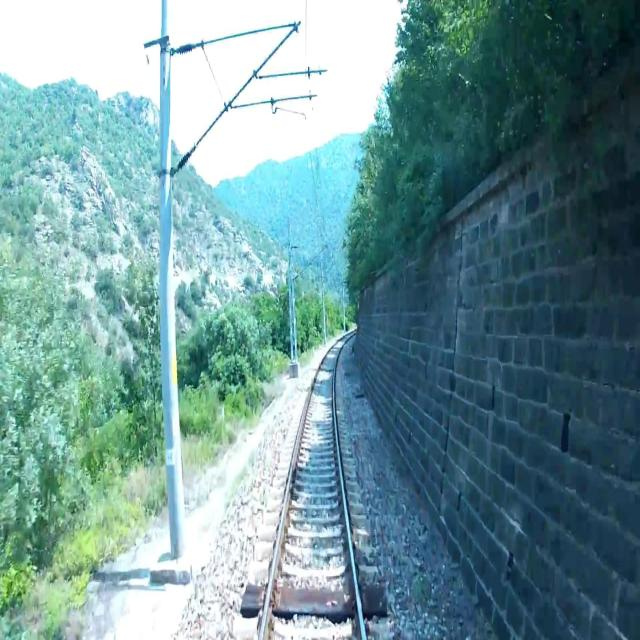rail-track: (263, 338, 362, 639)
